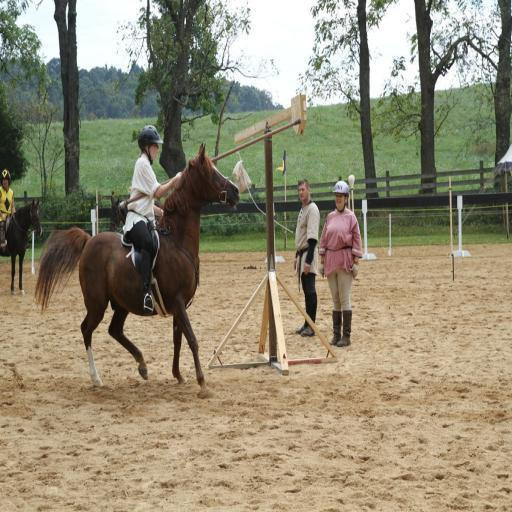horse: (32, 142, 240, 398), (0, 198, 43, 297)
